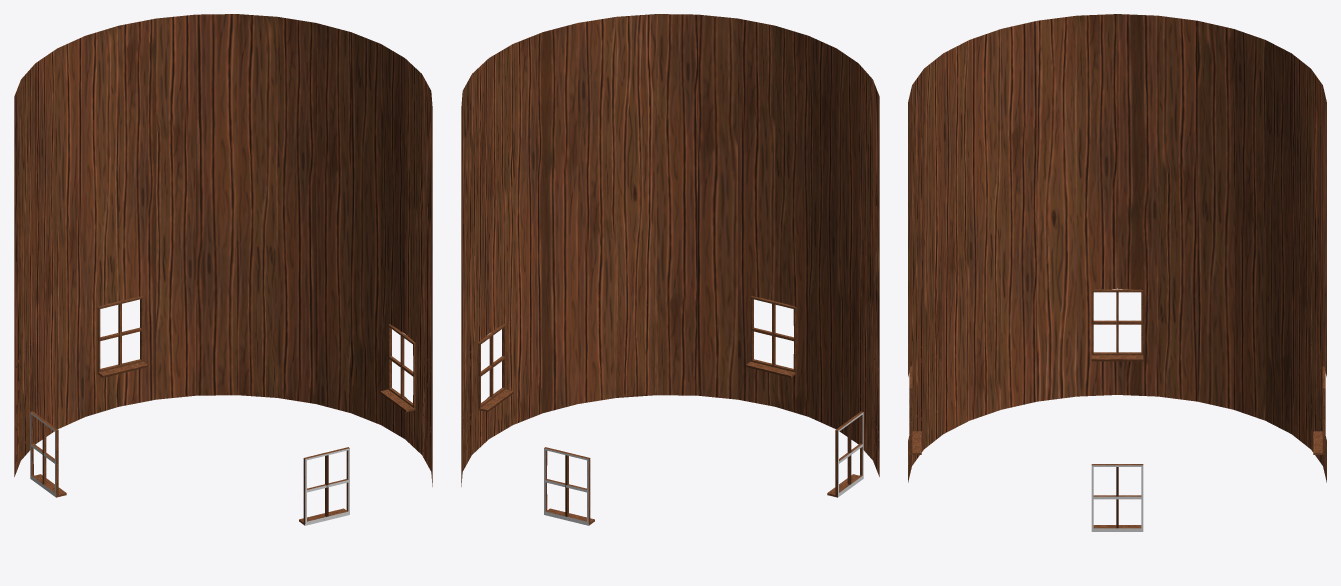
Rendered from Wall with 4 windows.glb.
3 views of the same model, side by side, from view 1: azimuth 30°, elevation 25°; view 2: azimuth 150°, elevation 25°; view 3: azimuth 270°, elevation 25° (orthographic).
Visible parts, largest first — view 1: Cylinder, Cube.003, Cube.002, Cube.004, Cube.001; view 2: Cylinder, Cube.002, Cube.003, Cube.004, Cube.001; view 3: Cylinder, Cube.001, Cube.004, Cube.002, Cube.003.
Part boxes in pixels (x1,y1,x2,y2): Cylinder: (14, 14, 432, 486); Cube.003: (97, 296, 147, 377); Cube.002: (299, 447, 349, 525); Cube.004: (380, 324, 415, 412); Cube.001: (30, 411, 66, 497); Cylinder: (461, 14, 879, 486); Cube.002: (746, 296, 796, 377); Cube.003: (544, 447, 594, 525); Cube.004: (478, 324, 513, 412); Cube.001: (827, 411, 863, 497); Cylinder: (908, 14, 1326, 482); Cube.001: (1091, 289, 1143, 361); Cube.004: (1091, 464, 1143, 531); Cube.002: (909, 366, 921, 454); Cube.003: (1313, 366, 1325, 454).
Bounding box in the file's own units: 19.99 × 20.06 × 19.99.
Materials: 3 (2 with a texture image).
